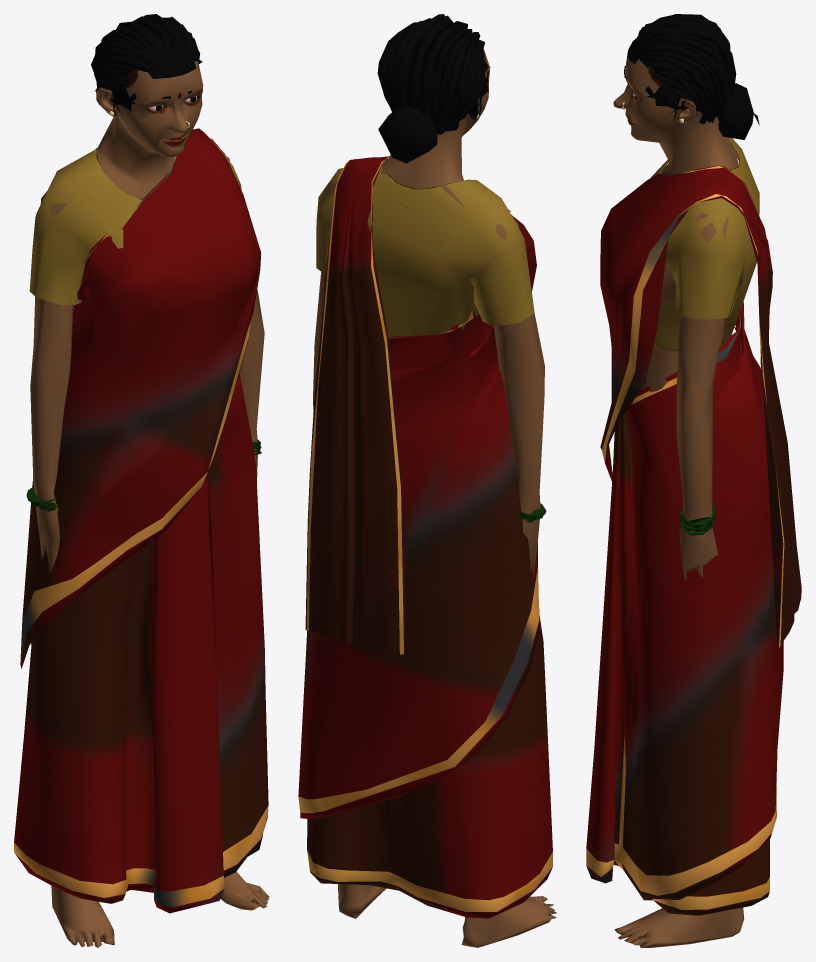
Rendered from woman_saree_kanchi_stand.glb.
The picture shows the model from 3 angles, left to right: view 1: azimuth 30°, elevation 25°; view 2: azimuth 150°, elevation 25°; view 3: azimuth 270°, elevation 25°; orthographic projection.
Parts seen in each view (by area): view 1: geometry_0; view 2: geometry_0; view 3: geometry_0.
Part boxes in pixels (bbox=[...]): geometry_0: bbox=[14, 14, 269, 947]; geometry_0: bbox=[298, 14, 556, 947]; geometry_0: bbox=[586, 14, 801, 947].
Bounding box in the file's own units: 0.4267 × 1.56 × 0.3439.
1 material, 1 textured.
